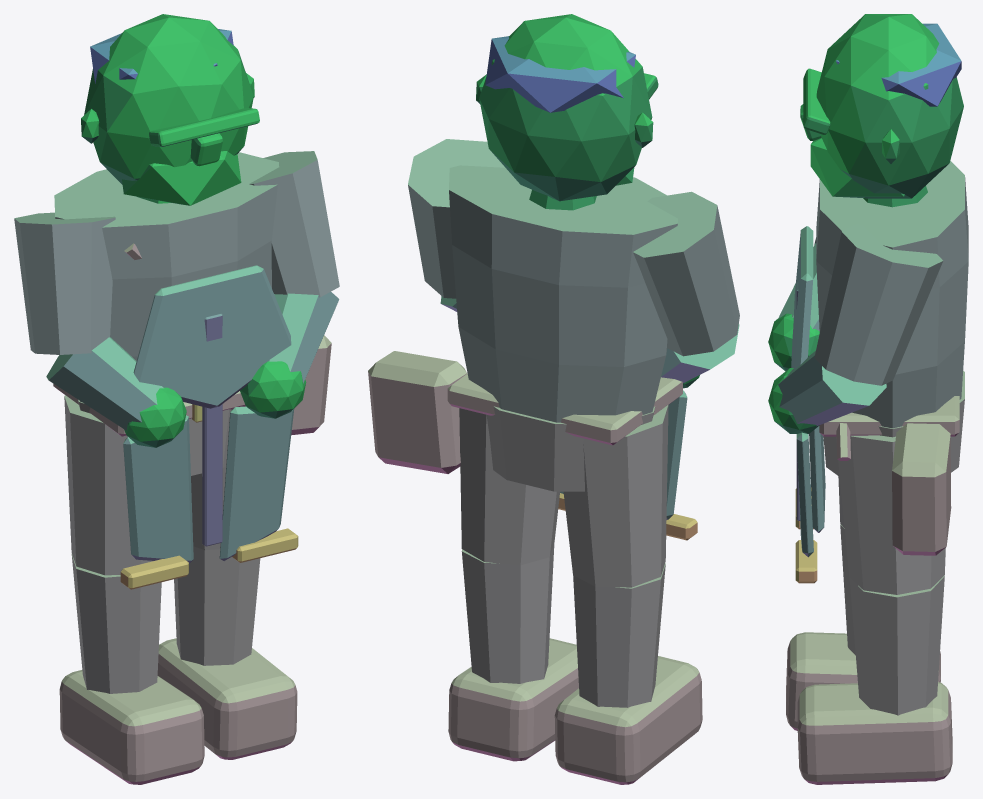
Rendered from npc_merchant_work_v01.glb.
3 renders of one model, left to right at view 1: azimuth 30°, elevation 25°; view 2: azimuth 150°, elevation 25°; view 3: azimuth 270°, elevation 25°, orthographic.
Visible parts, largest first — view 1: GEO_npc_merchant_work_v01; view 2: GEO_npc_merchant_work_v01; view 3: GEO_npc_merchant_work_v01.
Part boxes in pixels (box(x1,y1,x2,y2)): GEO_npc_merchant_work_v01: box(14, 14, 339, 784); GEO_npc_merchant_work_v01: box(368, 14, 739, 784); GEO_npc_merchant_work_v01: box(768, 14, 968, 784).
Size of the model in its own units: 0.9712 by 2.08 by 0.5174.
